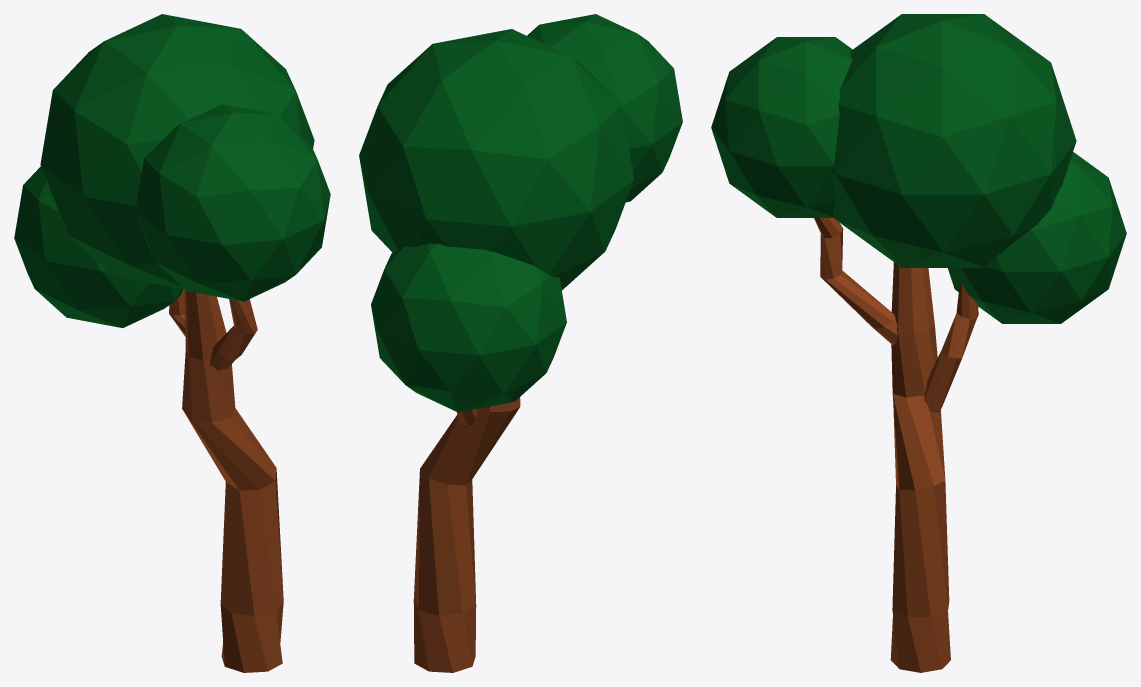
The model's file is Tree1_2.obj.
3 renders of one model, left to right at view 1: azimuth 30°, elevation 25°; view 2: azimuth 150°, elevation 25°; view 3: azimuth 270°, elevation 25°, orthographic. The views are drawn at different scales.
Parts seen in each view (by area): view 1: Icosphere; view 2: Icosphere; view 3: Icosphere.
Boxes of the visible parts, x1=… form: Icosphere: x1=14, y1=14, x2=330, y2=672; Icosphere: x1=359, y1=14, x2=682, y2=672; Icosphere: x1=711, y1=14, x2=1126, y2=672.
Size of the model in its own units: 14.94 by 39.66 by 24.46.
1 material, 1 textured.
